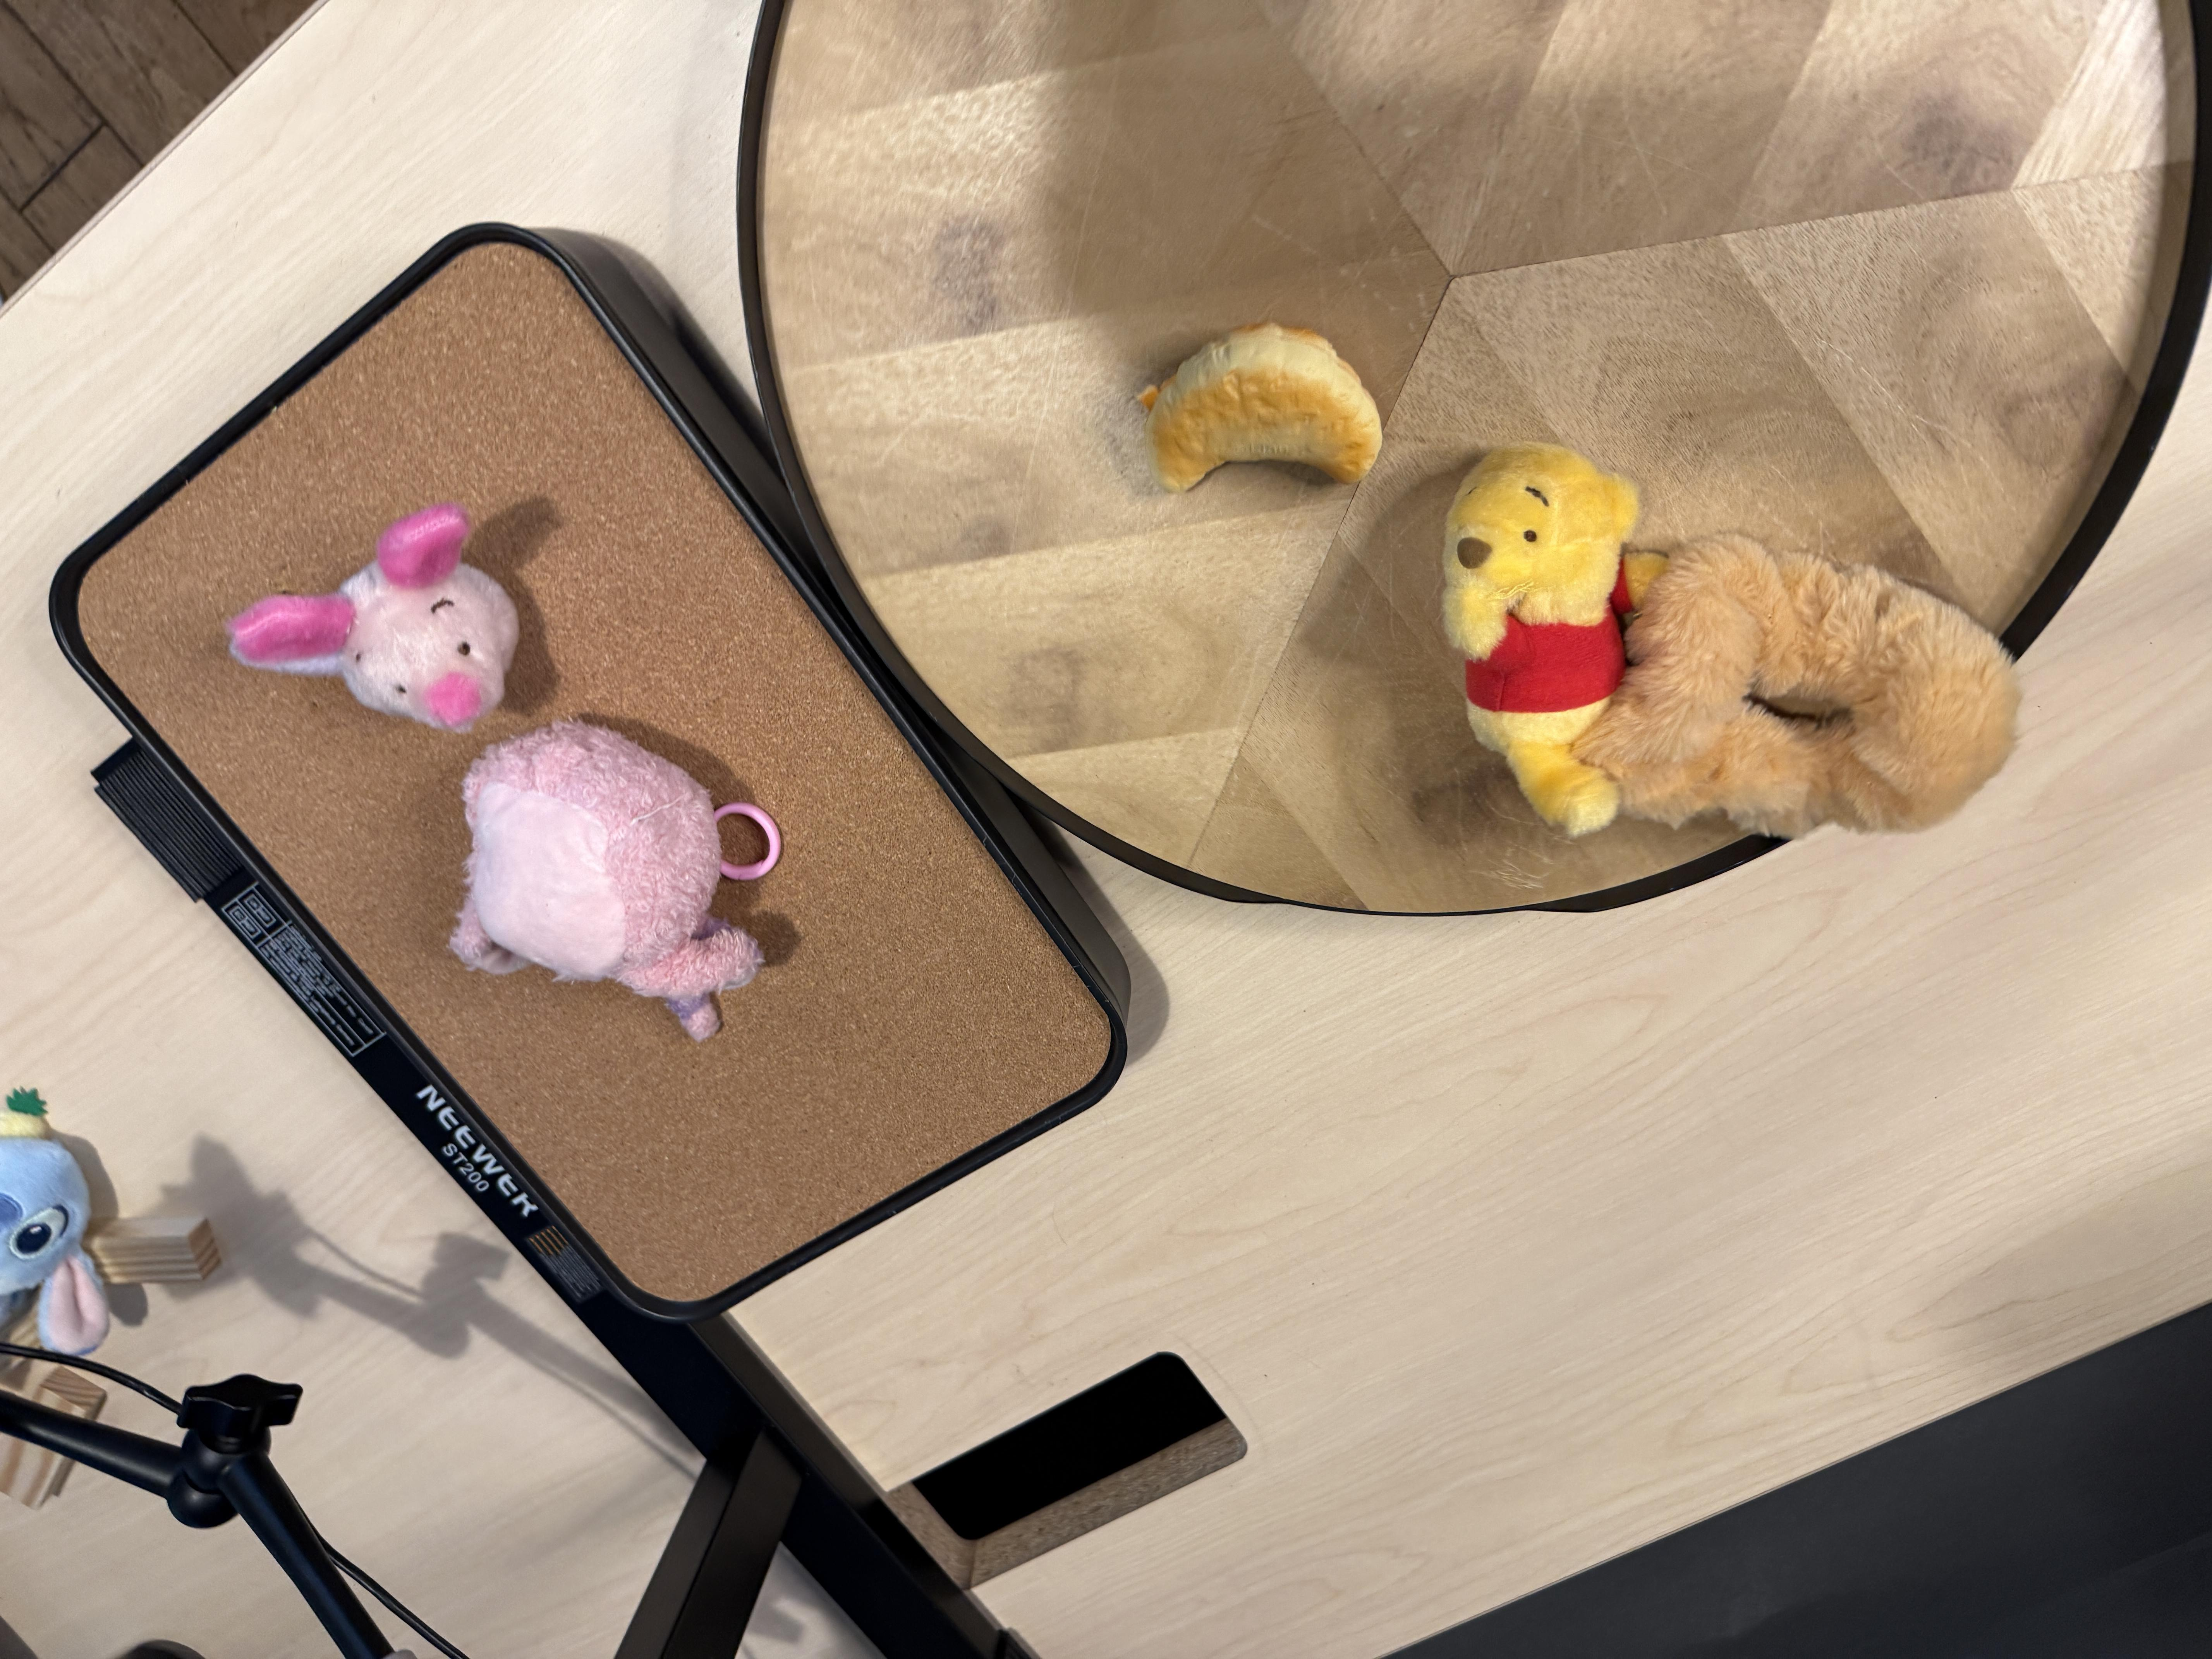bread: (1141, 321, 1395, 497)
doll: (1446, 443, 2022, 835), (448, 721, 780, 1037), (232, 504, 528, 734)
